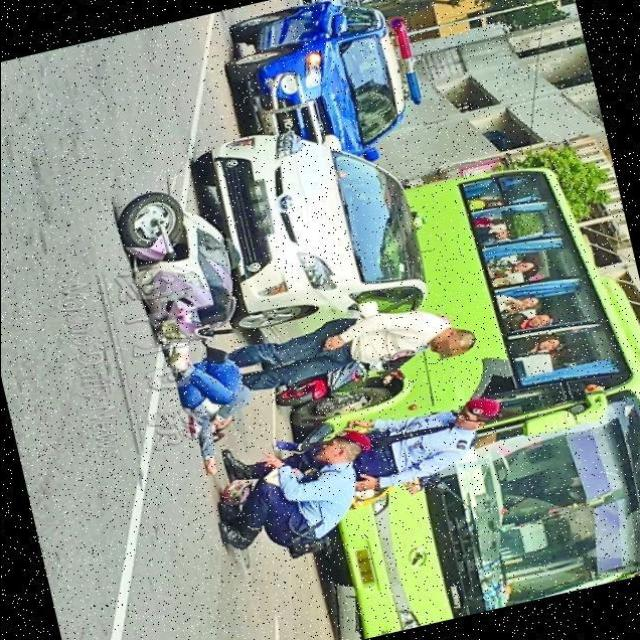accident: (77, 151, 315, 393)
